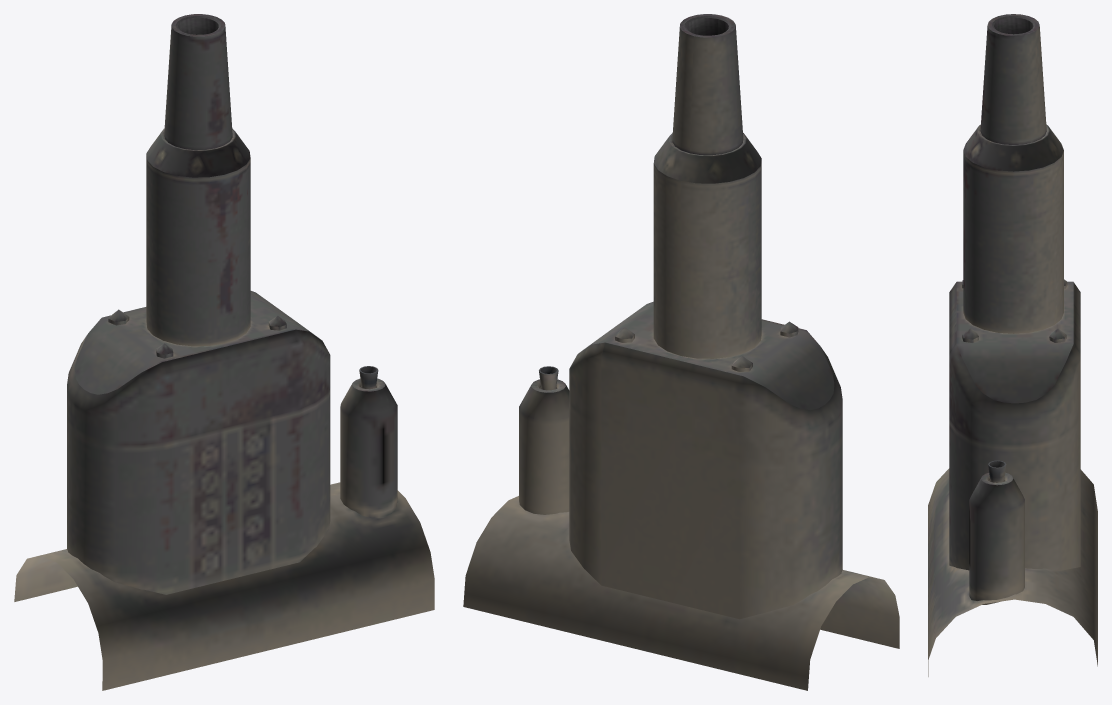
Rendered from Gun_02.glb.
The picture shows the model from 3 angles, left to right: view 1: azimuth 30°, elevation 25°; view 2: azimuth 150°, elevation 25°; view 3: azimuth 270°, elevation 25°; orthographic projection. The views are drawn at different scales.
Visible parts, largest first — view 1: set_0_group_0; view 2: set_0_group_0; view 3: set_0_group_0.
Boxes of the visible parts, box(x1,y1,x2,y2) form: set_0_group_0: box(14, 14, 434, 690); set_0_group_0: box(463, 14, 899, 690); set_0_group_0: box(928, 14, 1097, 676).
Size of the model in its own units: 0.7 by 1.21 by 0.3226.
1 material, 1 textured.
